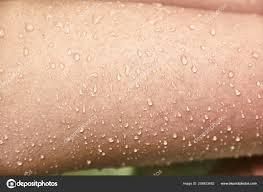Goosebumps: (1, 0, 262, 173)
